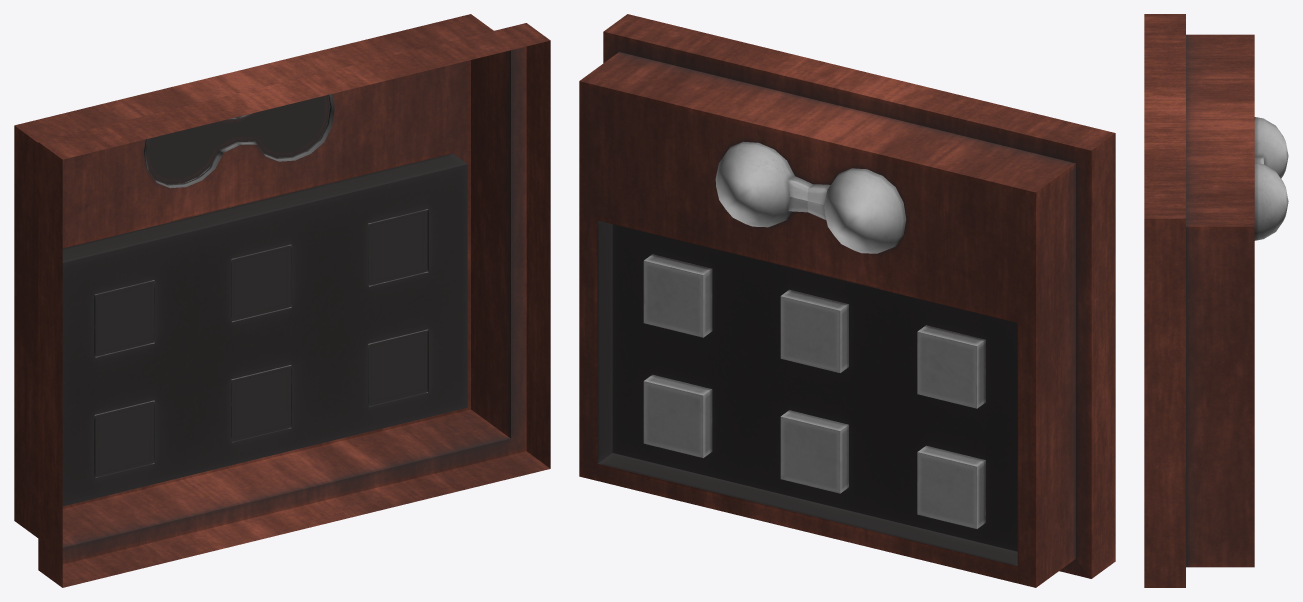
Rendered from SM_Button.fbx.
3 renders of one model, left to right at view 1: azimuth 30°, elevation 25°; view 2: azimuth 150°, elevation 25°; view 3: azimuth 270°, elevation 25°, orthographic. The views are drawn at different scales.
Visible parts, largest first — view 1: SM_Button; view 2: SM_Button; view 3: SM_Button.
Boxes of the visible parts, bbox=[...] form: SM_Button: bbox=[14, 14, 550, 587]; SM_Button: bbox=[579, 14, 1115, 587]; SM_Button: bbox=[1144, 14, 1288, 587].
Size of the model in its own units: 24.33 by 7.23 by 20.4.
Materials: 1 (1 with a texture image).
